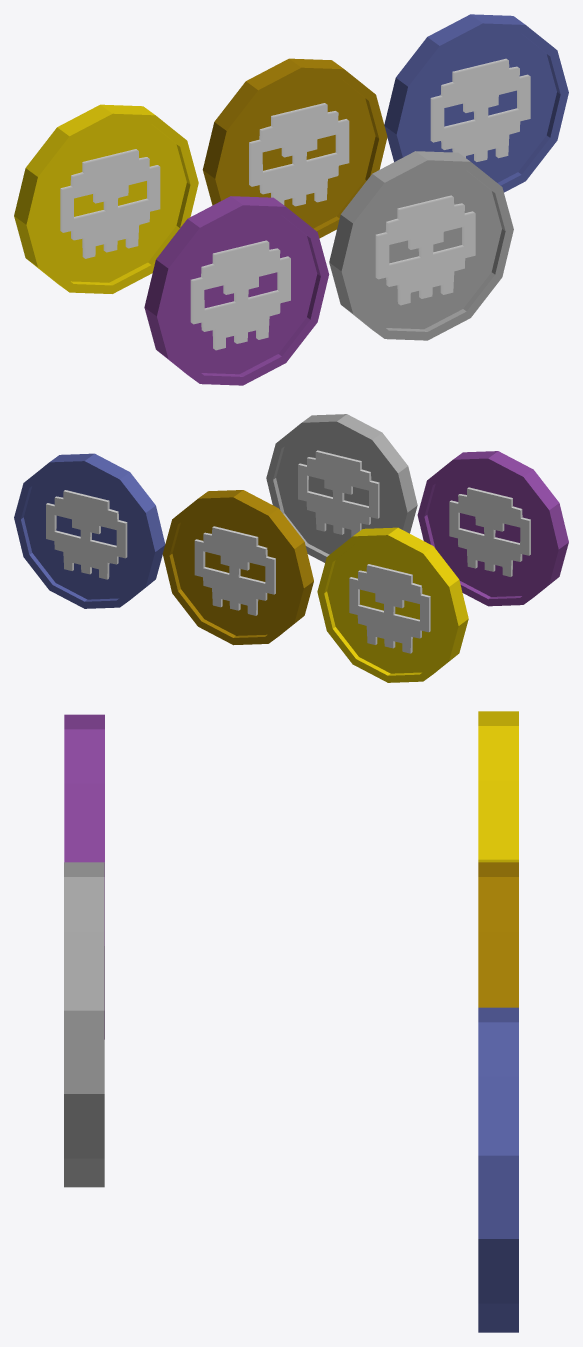
Rendered from Coins.fbx.
The picture shows the model from 3 angles, top to bottom: view 1: azimuth 30°, elevation 25°; view 2: azimuth 150°, elevation 25°; view 3: azimuth 270°, elevation 25°; orthographic projection. The views are drawn at different scales.
Visible parts, largest first — view 1: Coin4, Coin5, Coin2, Coin3, Coin1; view 2: Coin3, Coin2, Coin1, Coin5, Coin4; view 3: Coin3, Coin4, Coin5, Coin2, Coin1.
Boxes of the visible parts, x1=… form: Coin4: x1=329, y1=151, x2=513, y2=340; Coin5: x1=144, y1=196, x2=329, y2=385; Coin2: x1=14, y1=104, x2=198, y2=293; Coin3: x1=384, y1=14, x2=568, y2=192; Coin1: x1=202, y1=58, x2=387, y2=238; Coin3: x1=14, y1=453, x2=165, y2=608; Coin2: x1=317, y1=527, x2=468, y2=682; Coin1: x1=162, y1=490, x2=313, y2=645; Coin5: x1=417, y1=451, x2=568, y2=606; Coin4: x1=266, y1=414, x2=417, y2=562; Coin3: x1=478, y1=1007, x2=518, y2=1332; Coin4: x1=64, y1=862, x2=104, y2=1187; Coin5: x1=64, y1=714, x2=104, y2=1039; Coin2: x1=478, y1=711, x2=518, y2=862; Coin1: x1=478, y1=862, x2=518, y2=1007.
Bounding box in the file's own units: 25.18 × 8 × 11.16.
